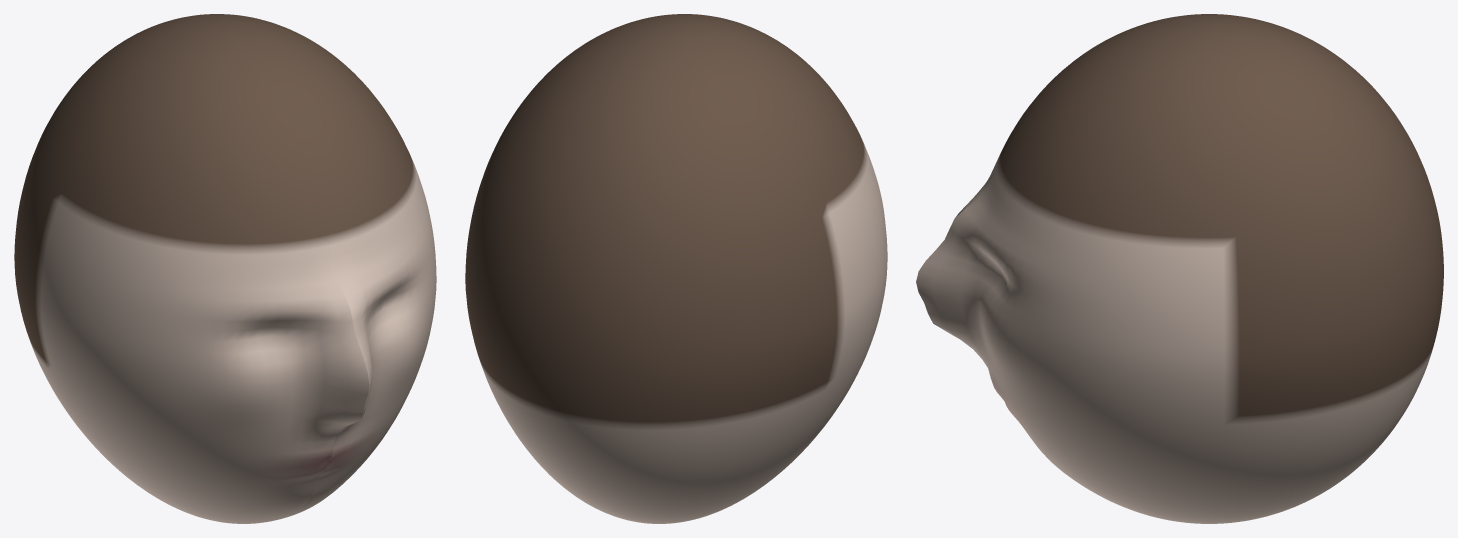
3 renders of one model, left to right at view 1: azimuth 30°, elevation 25°; view 2: azimuth 150°, elevation 25°; view 3: azimuth 270°, elevation 25°, orthographic.
Parts seen in each view (by area): view 1: head; view 2: head; view 3: head.
Part boxes in pixels (x1,y1,x2,y2): head: (14,14,436,523); head: (465,14,887,523); head: (916,14,1443,523).
Size of the model in its own units: 1.56 by 2 by 1.98.
